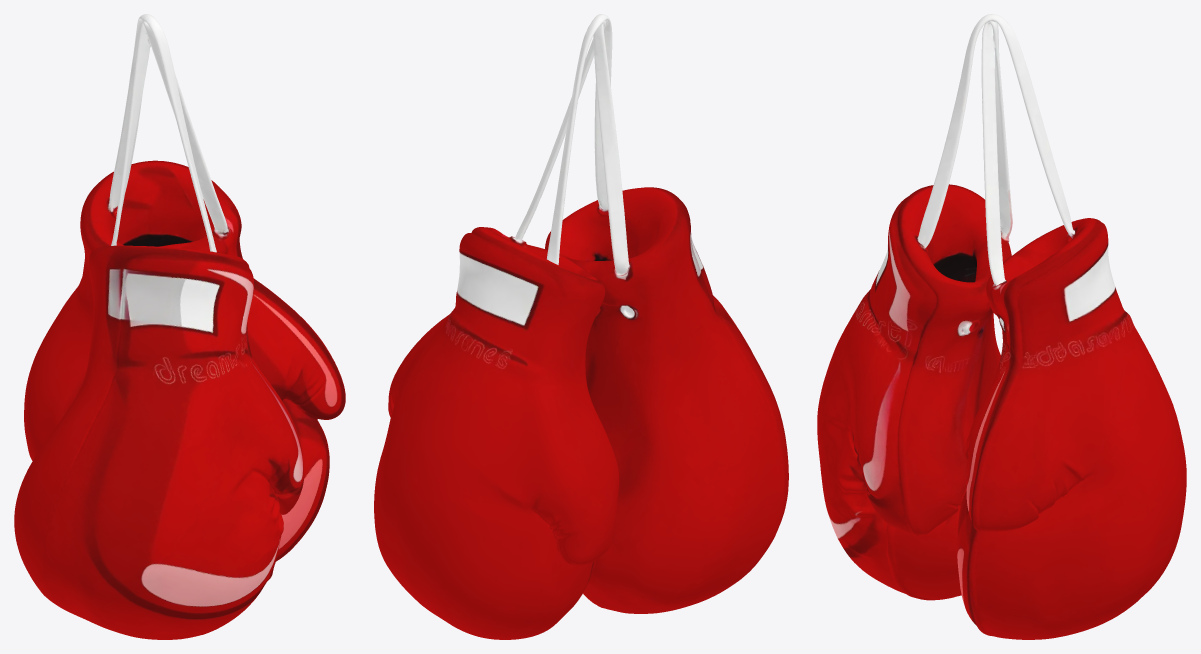
File: Guantone boxe.glb
The picture shows the model from 3 angles, left to right: view 1: azimuth 30°, elevation 25°; view 2: azimuth 150°, elevation 25°; view 3: azimuth 270°, elevation 25°; orthographic projection. The views are drawn at different scales.
Bounding box in the file's own units: 1.12 × 1.9 × 1.09.
Materials: 1 (1 with a texture image).
